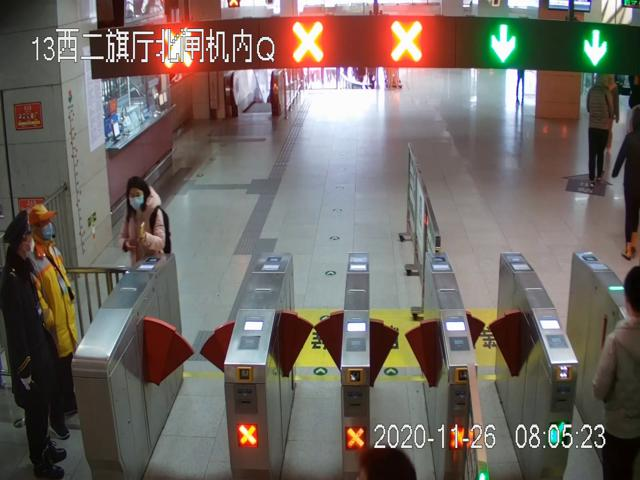person: (1, 209, 68, 480), (24, 202, 85, 444), (120, 175, 172, 264)
